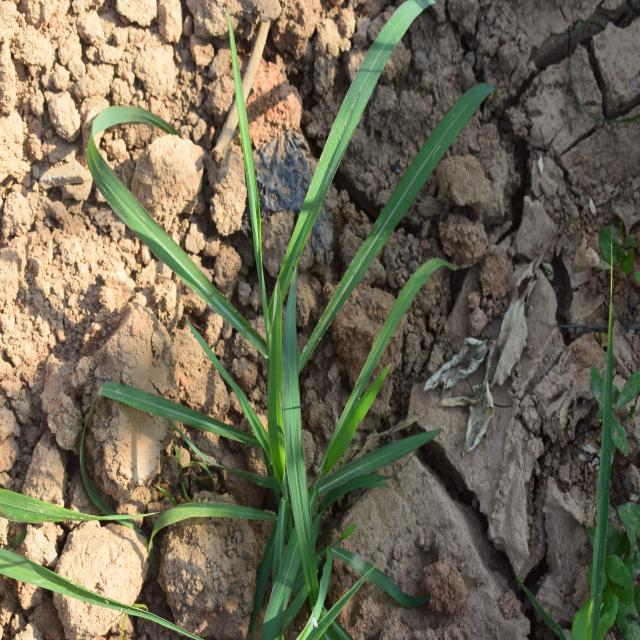green_foxtail: (110, 43, 430, 505)
